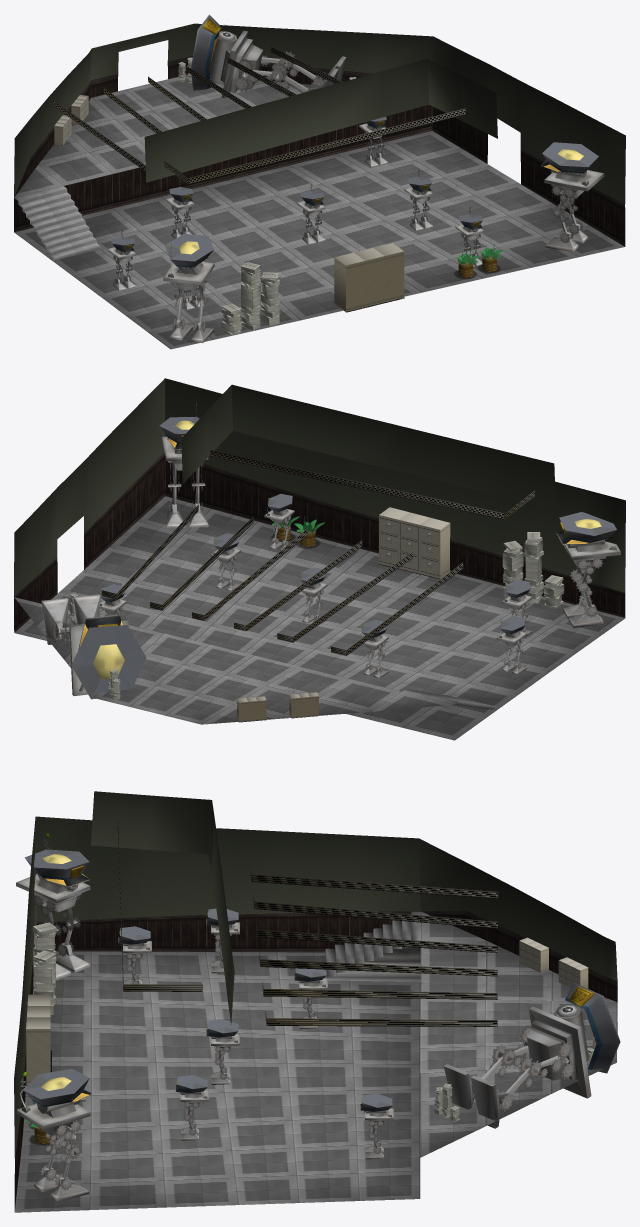
Rendered from room_100.glb.
3 views of the same model, one above another, from view 1: azimuth 30°, elevation 25°; view 2: azimuth 150°, elevation 25°; view 3: azimuth 270°, elevation 25° (orthographic). The views are drawn at different scales.
Visible parts, largest first — view 1: floor, walls, TopCeiling, floor2, platform_wall, walls3, filing_cabinet (×3), stairs, security_hat (×3), joint40 (×3), Lights6, joint22 (+1 smaller); view 2: floor, walls, TopCeiling, floor2, walls3, security_hat (×3), filing_cabinet (×3), Lights6, joint40 (×2), LongLights_Lights4, LongLights_Lights6, LongLights_Lights2 (+7 smaller); view 3: floor, walls, floor2, walls3, TopCeiling, security_hat (×3), joint40 (×3), stairs, LongLights_Lights6, LongLights_Lights4, LongLights_Lights2, LongLights_Lights1 (+8 smaller).
Part boxes in pixels (x1,y1,x2,y2): floor: (14, 130, 624, 349); walls: (14, 23, 625, 204); TopCeiling: (144, 58, 497, 182); floor2: (14, 74, 313, 197); platform_wall: (14, 104, 432, 232); walls3: (14, 56, 625, 246); filing_cabinet (×3): (334, 243, 404, 311); stairs: (15, 186, 100, 261); security_hat (×3): (165, 14, 598, 267); joint40 (×3): (163, 30, 604, 285); Lights6: (164, 108, 465, 184); joint22: (229, 38, 263, 92); floor: (14, 496, 624, 740); walls: (14, 378, 625, 596); TopCeiling: (181, 384, 555, 509); floor2: (14, 597, 453, 724); walls3: (14, 452, 625, 632); security_hat (×3): (71, 417, 616, 699); filing_cabinet (×3): (379, 507, 450, 578); Lights6: (210, 450, 534, 519); joint40 (×2): (69, 539, 620, 695); LongLights_Lights4: (277, 551, 413, 642); LongLights_Lights6: (330, 562, 463, 655); LongLights_Lights2: (234, 540, 362, 631); floor: (14, 951, 420, 1212); walls: (14, 816, 617, 1158); floor2: (420, 911, 617, 1157); walls3: (14, 911, 617, 1211); TopCeiling: (91, 791, 234, 1024); security_hat (×3): (23, 849, 620, 1107); joint40 (×3): (16, 832, 591, 1129); stairs: (325, 911, 420, 977); LongLights_Lights6: (250, 867, 498, 898); LongLights_Lights4: (253, 896, 497, 928); LongLights_Lights2: (256, 924, 497, 952); LongLights_Lights1: (259, 953, 497, 976).
Bounding box in the file's own units: 142 × 46.61 × 139.
Materials: 23 (23 with a texture image).
